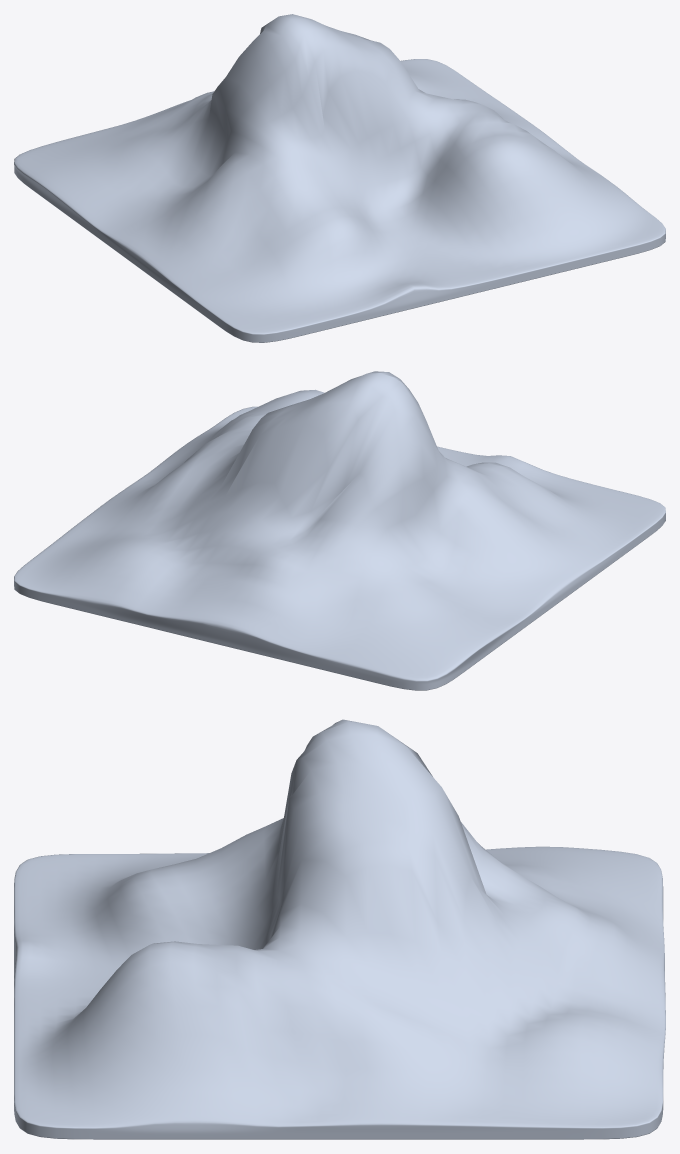
Rendered from mountain_Ice.fbx.
3 views of the same model, one above another, from view 1: azimuth 30°, elevation 25°; view 2: azimuth 150°, elevation 25°; view 3: azimuth 270°, elevation 25° (orthographic). The views are drawn at different scales.
Parts seen in each view (by area): view 1: mountain_ice; view 2: mountain_ice; view 3: mountain_ice.
Boxes of the visible parts, x1,y1,x2,y2 form: mountain_ice: (14, 14, 665, 342); mountain_ice: (14, 371, 665, 690); mountain_ice: (14, 719, 665, 1139).
Size of the model in its own units: 868 by 373 by 868.
